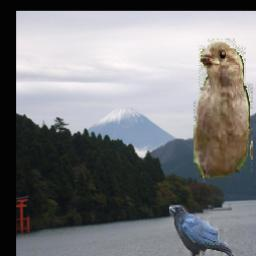Crow: (169, 205, 236, 256)
Sparrow: (193, 38, 252, 210)
